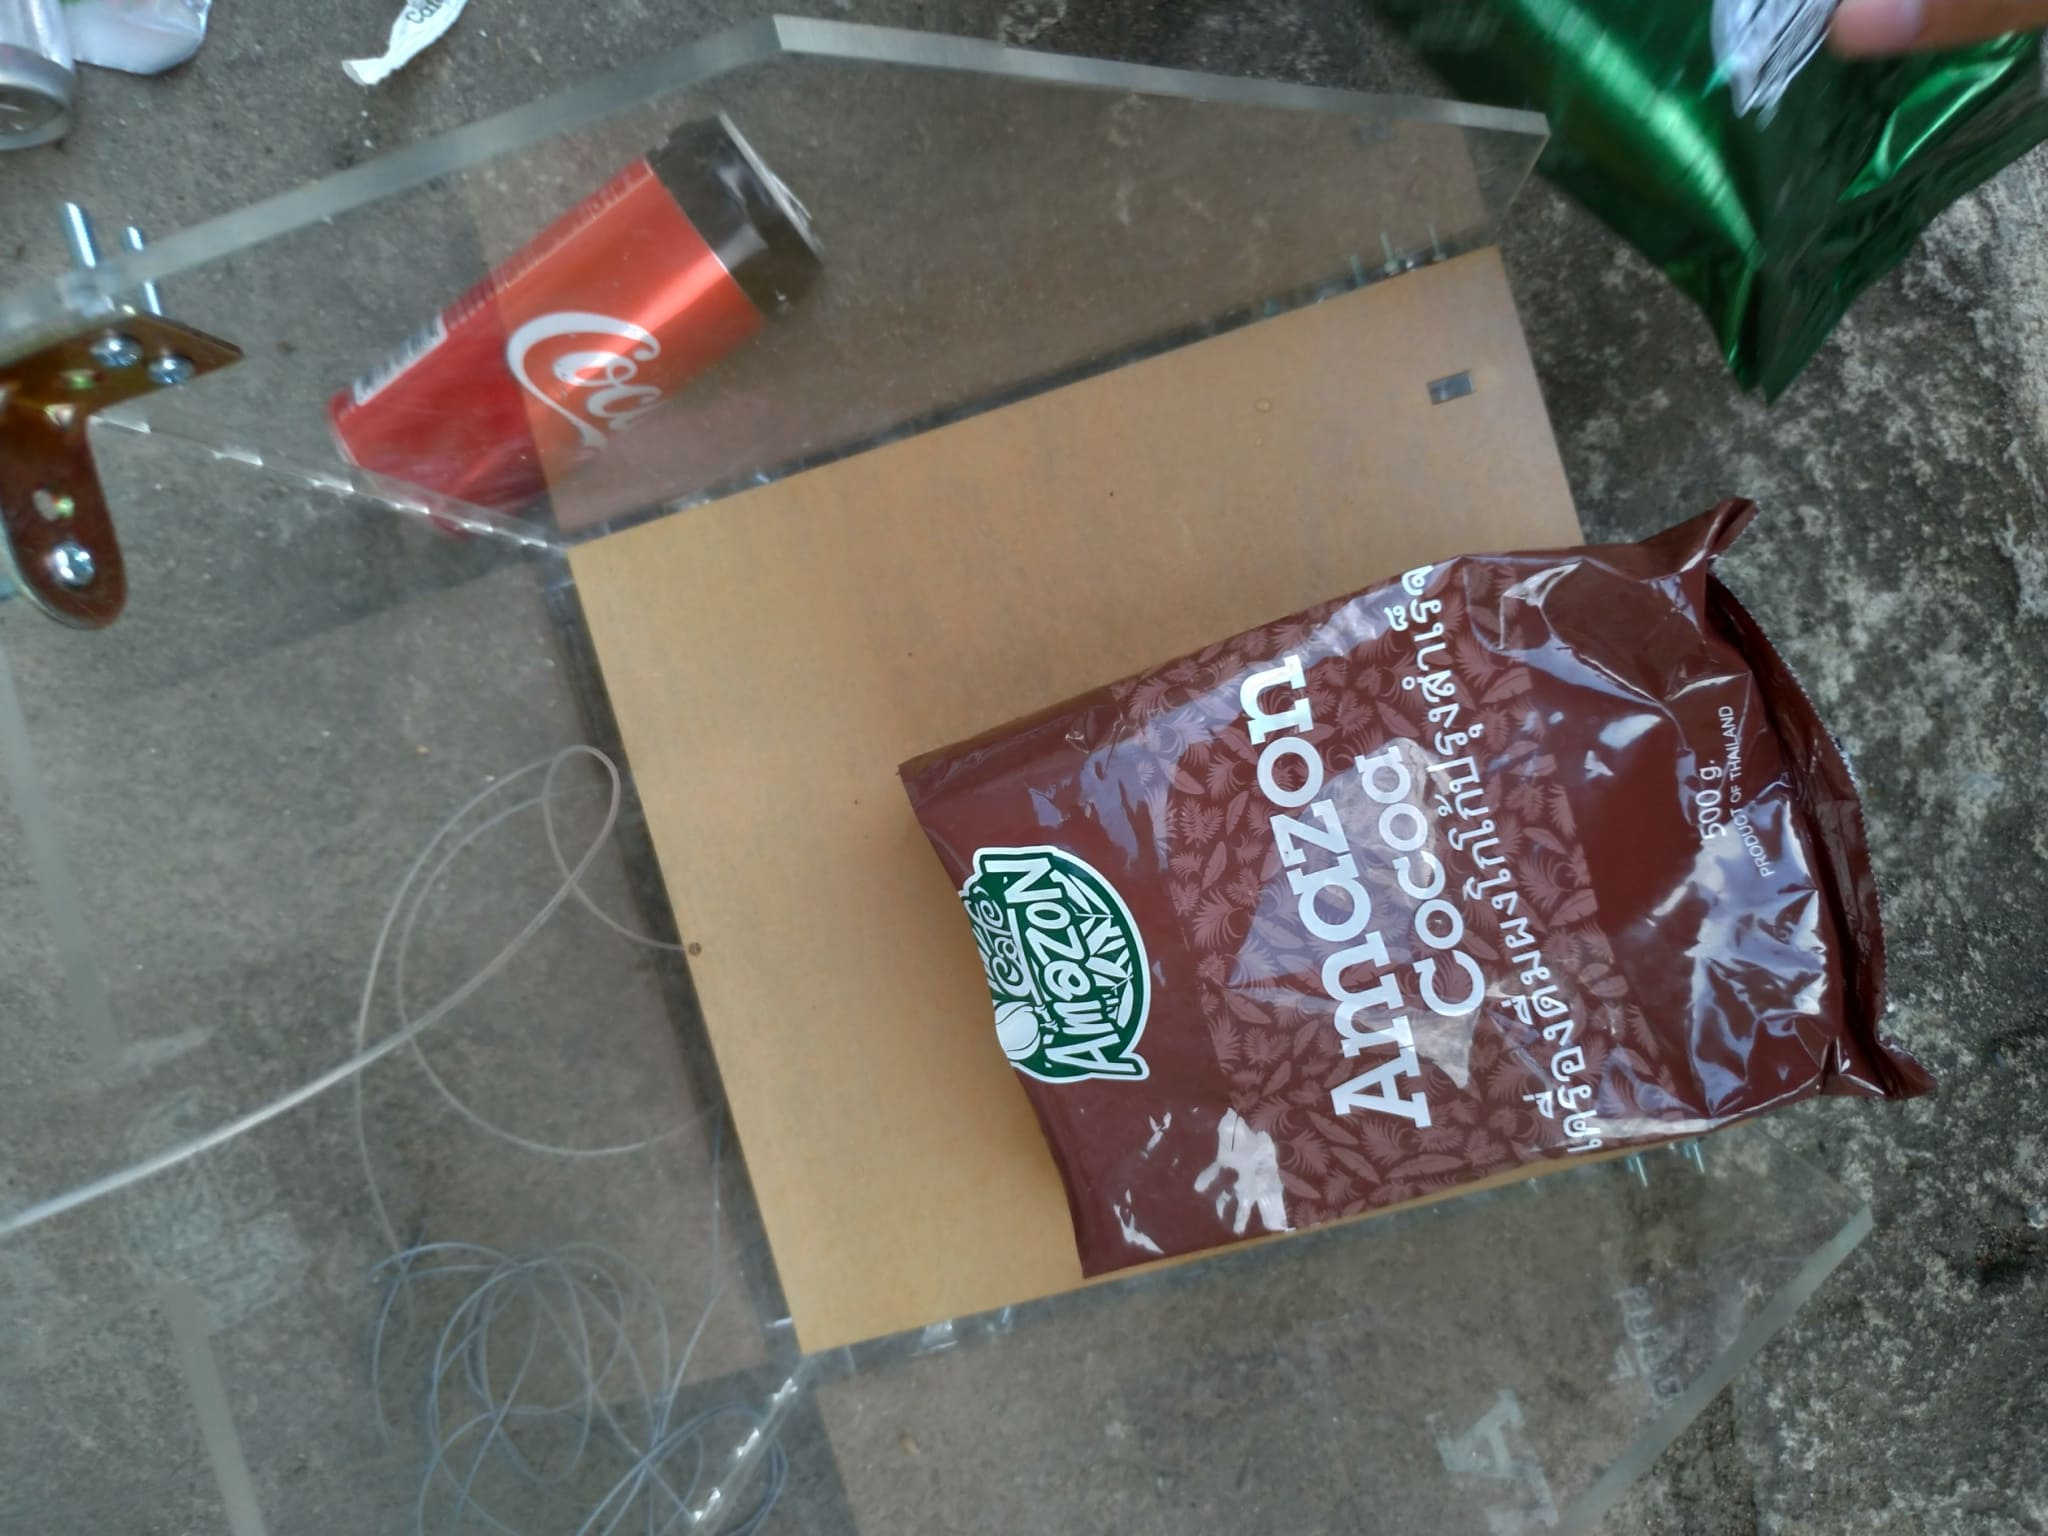AlCan: (343, 115, 837, 545)
Others: (901, 490, 1917, 1271), (1358, 3, 2048, 411)
